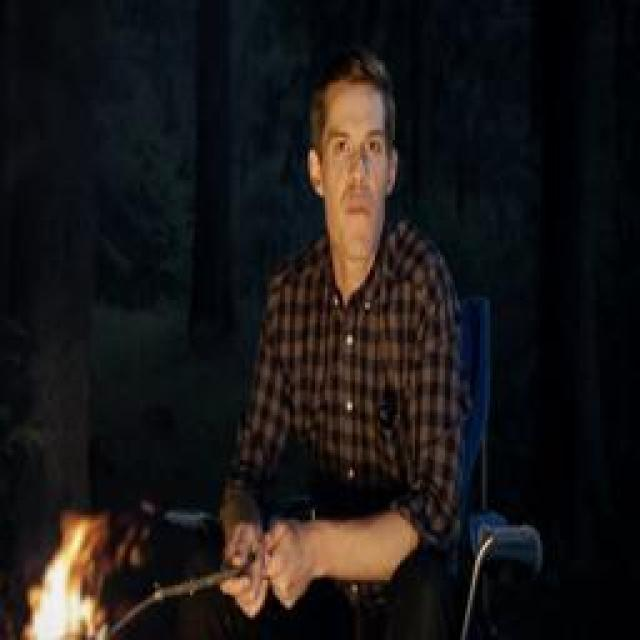Fire: (24, 517, 107, 640)
